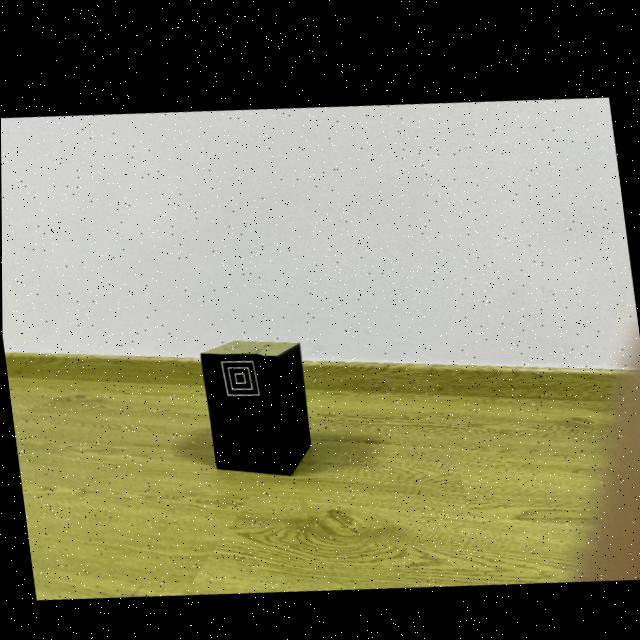BULLSEYE: (213, 349, 267, 399)
